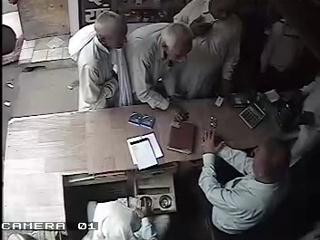Normal: (198, 129, 292, 236), (161, 0, 243, 104), (126, 21, 194, 111), (83, 195, 165, 240)
shoplifting: (68, 11, 132, 112)
